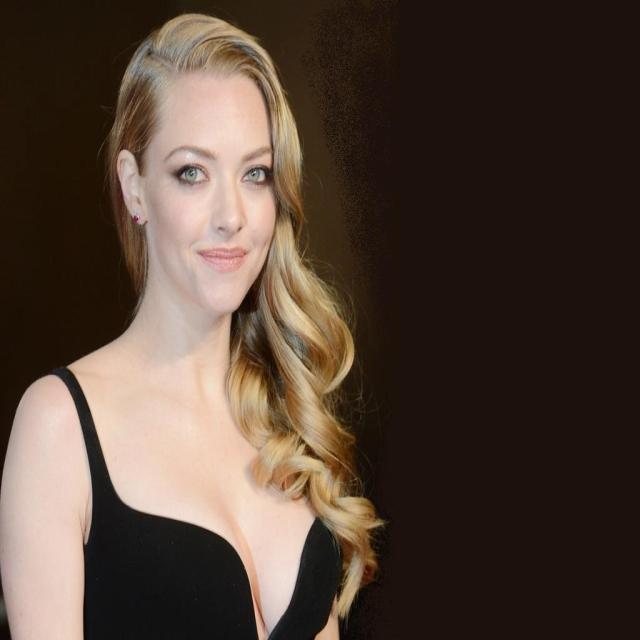no-earmuff: (109, 142, 156, 236)
